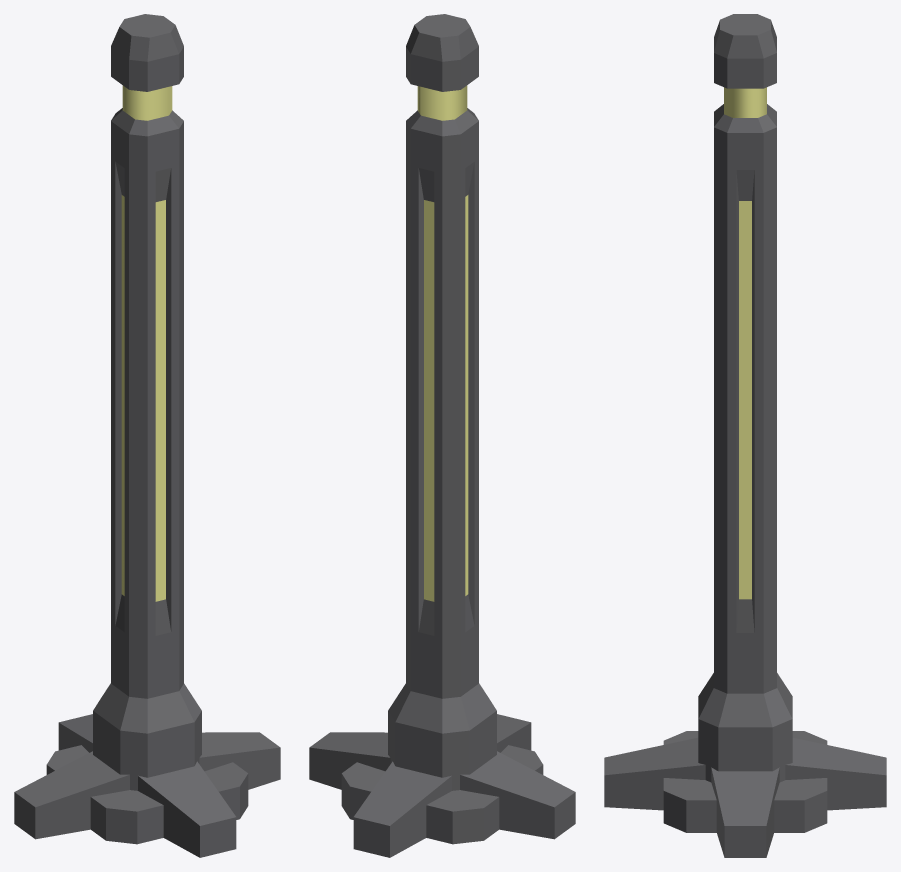
Rendered from Hangar_StandingLights_01.fbx.
3 views of the same model, side by side, from view 1: azimuth 30°, elevation 25°; view 2: azimuth 150°, elevation 25°; view 3: azimuth 270°, elevation 25° (orthographic).
Visible parts, largest first — view 1: StandnigLight_01; view 2: StandnigLight_01; view 3: StandnigLight_01.
Part boxes in pixels (left/top/right/bottom): StandnigLight_01: left=14, top=14, right=280, bottom=857; StandnigLight_01: left=309, top=14, right=575, bottom=857; StandnigLight_01: left=604, top=14, right=886, bottom=857.
Size of the model in its own units: 240 by 727 by 240.
